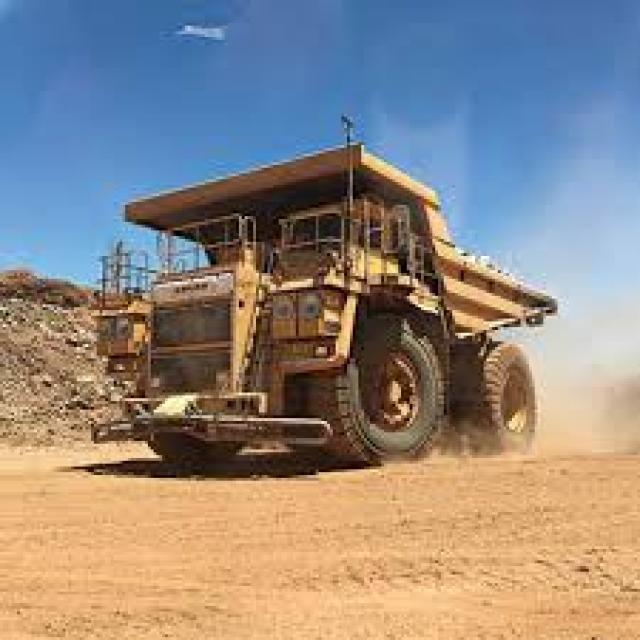dump_truck: (57, 125, 603, 484)
